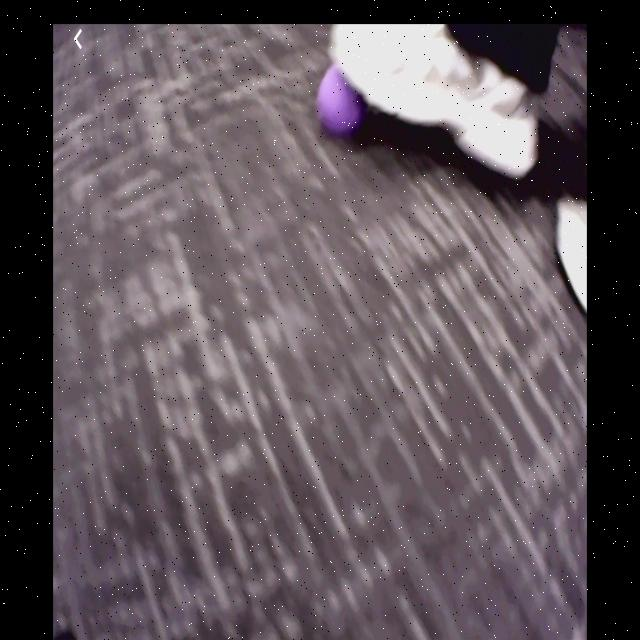ball: (318, 66, 363, 132)
